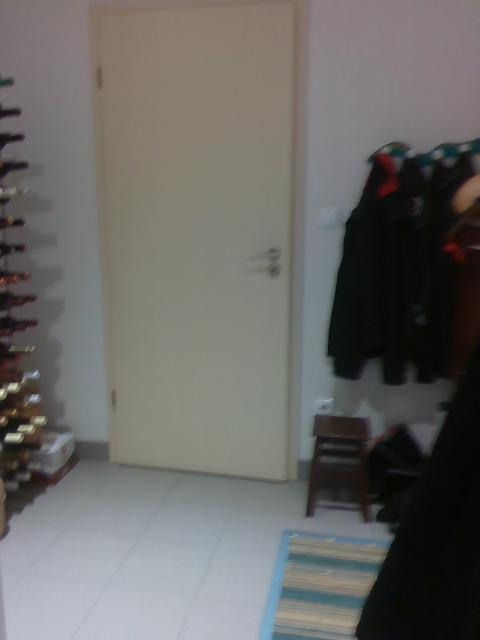door: (99, 2, 293, 485)
